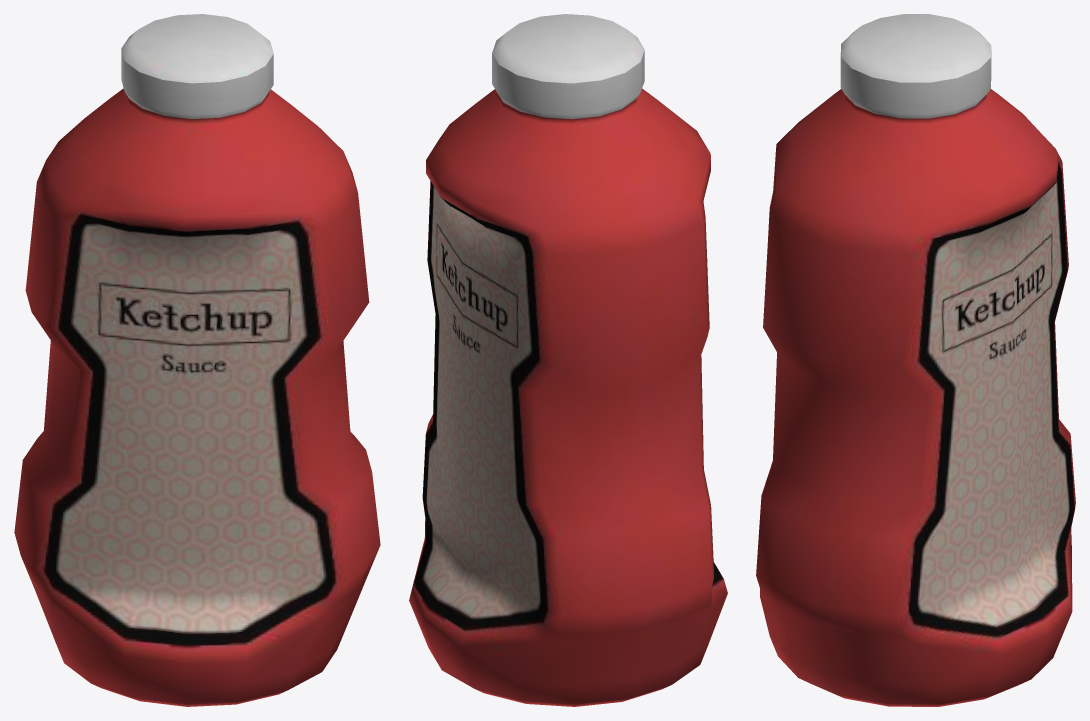
The model's file is mp-ketchup.glb.
3 views of the same model, side by side, from view 1: azimuth 30°, elevation 25°; view 2: azimuth 150°, elevation 25°; view 3: azimuth 270°, elevation 25° (orthographic).
Parts seen in each view (by area): view 1: Ketchup.001; view 2: Ketchup.001; view 3: Ketchup.001.
Part boxes in pixels (x1=…): Ketchup.001: x1=14, y1=14, x2=380, y2=706; Ketchup.001: x1=409, y1=14, x2=727, y2=706; Ketchup.001: x1=756, y1=14, x2=1075, y2=706.
Bounding box in the file's own units: 0.1065 × 0.2 × 0.0945.
Materials: 1 (1 with a texture image).
